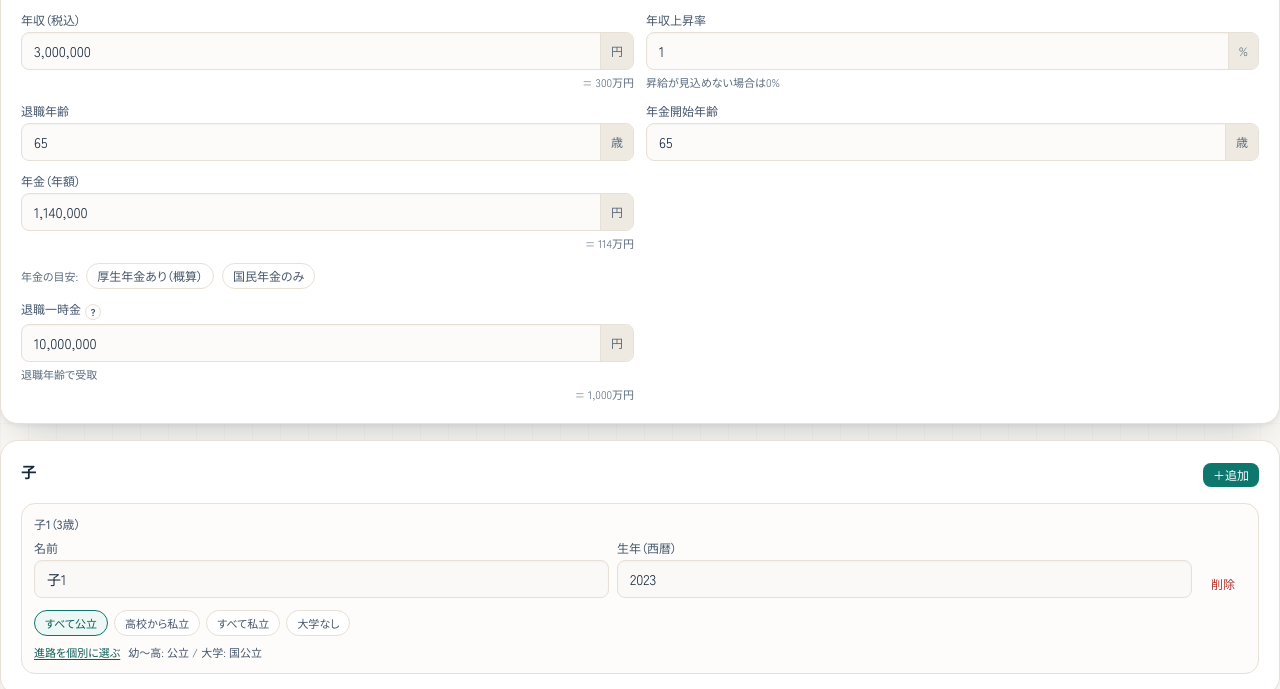
Test: 子カードの進路の開閉（#12） › 開閉ボタンで進路セレクトを表示し、aria-controls が領域を指す
This screenshot has width=1280, height=689.
(page scrolled)
Click the button "進路を個別に選ぶ" at (77, 653), box [34, 644, 120, 661]
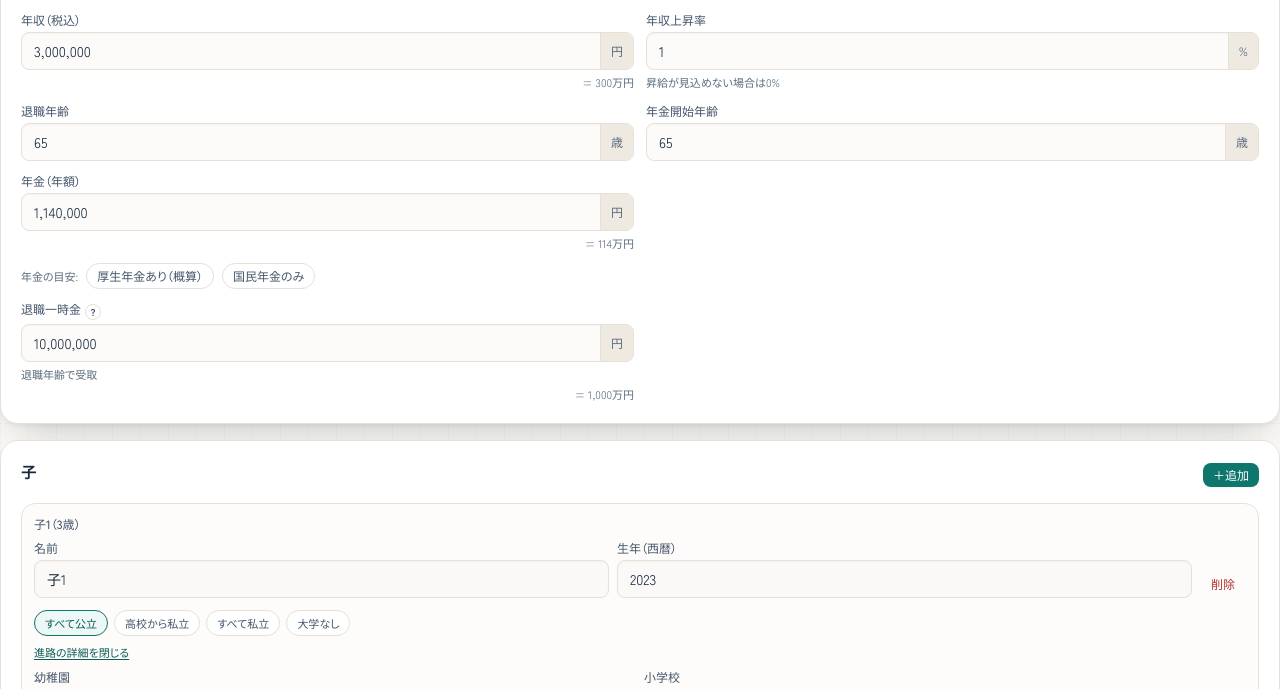
Expected: the button "進路の詳細を閉じる" is expanded, [34, 644, 129, 661]
Expected: the number of dropdowns is 5
